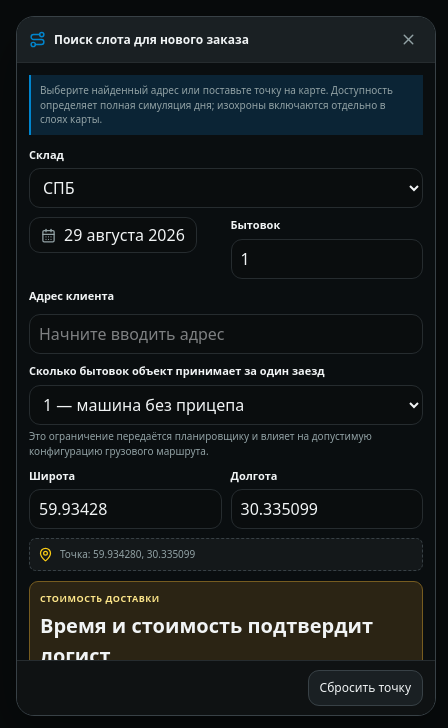
dispatcher slot availability panel › formats arrival, return and stop timestamps in Asia/Yekaterinburg while retaining local clock values
Type "Адрес клиента" into the field named "Адрес нового клиента" at (226, 334), box 29,314 -> 423,354
(page scrolled)
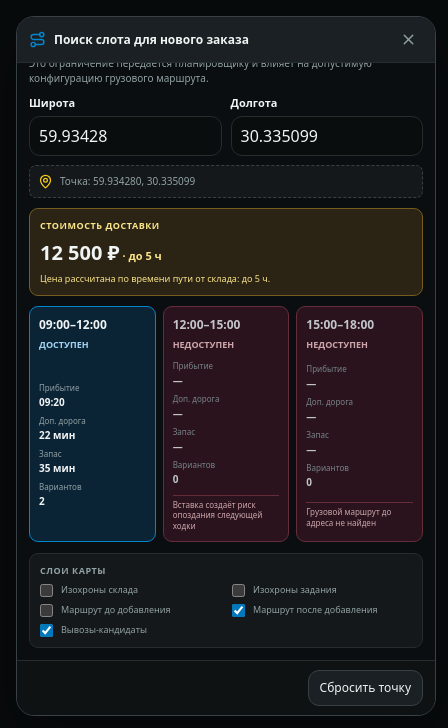
Check: the text "09:20" is shown, box 39,395 -> 65,409
Click the button that starts with "Доступен" at (92, 424), box 29,306 -> 156,542
(page scrolled)
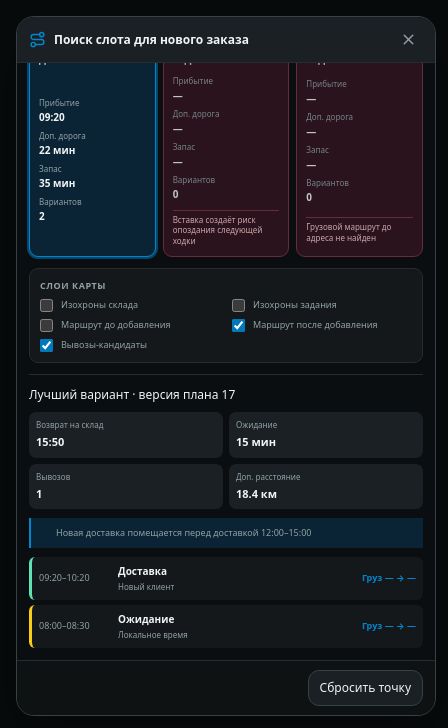
Check: the text "15:50" is shown, box 36,434 -> 64,450
Check: the text "09:20–10:20" is shown, box 39,571 -> 90,584
Check: the text "08:00–08:30" is shown, box 39,619 -> 90,632
